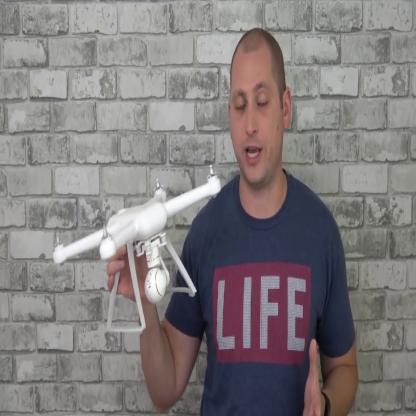drone: (48, 160, 226, 266)
